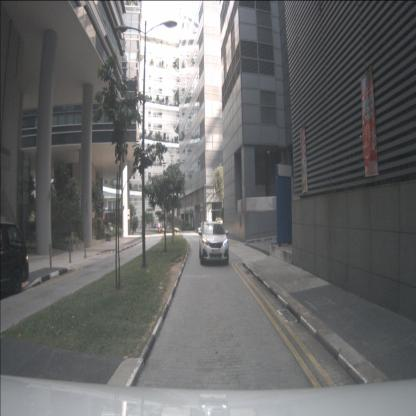human-pedestrian-adult: (158, 222, 160, 234), (132, 224, 134, 234)
vehicle-car: (0, 221, 29, 296), (198, 221, 229, 266)
